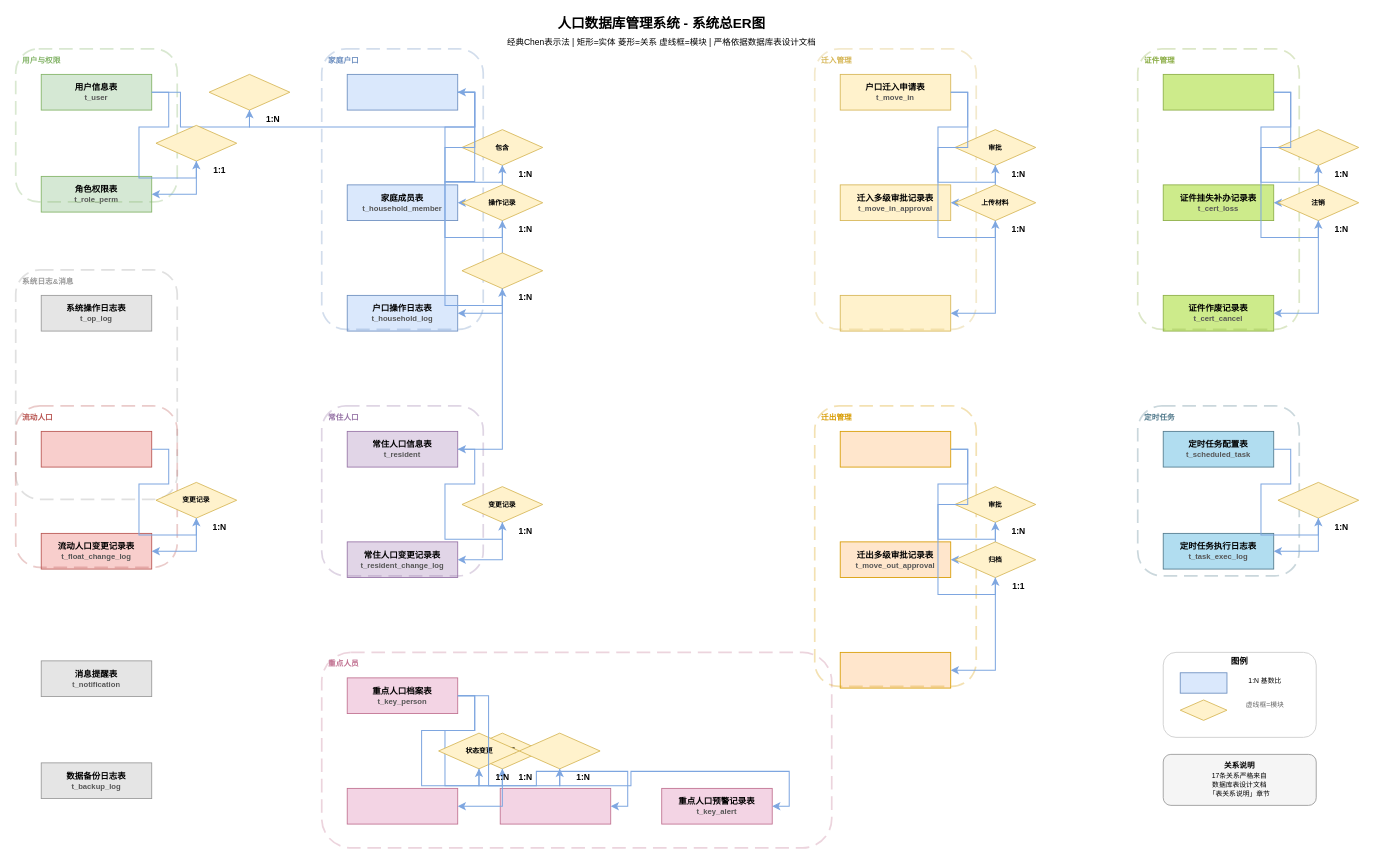
Some shapes in this 1374 by 863 pixel diagram are drawn without their labels. Here are the shapes that lost their labels. From the top down, the box of each, then its label:
(208, 74, 290, 110): 经办
(346, 74, 458, 110): 家庭户口档案表 t_household
(1162, 74, 1274, 110): 证件信息表 t_certificate
(155, 125, 237, 161): 分配
(1277, 129, 1359, 165): 挂失
(461, 252, 543, 289): 关联
(839, 295, 951, 331): 迁入证明材料表 t_move_in_material
(40, 431, 152, 467): 流动人口登记表 t_floating_pop
(839, 431, 951, 467): 户口迁出申请表 t_move_out
(1277, 482, 1359, 518): 执行记录
(839, 652, 951, 688): 迁出档案留存表 t_move_out_archive
(1179, 672, 1227, 693): 实体
(1179, 699, 1227, 720): 关系
(518, 732, 600, 769): 预警
(346, 788, 458, 824): 重点人口动态跟踪记录表 t_key_person_track
(499, 788, 611, 824): 重点人口管控状态变更表 t_key_status_change
